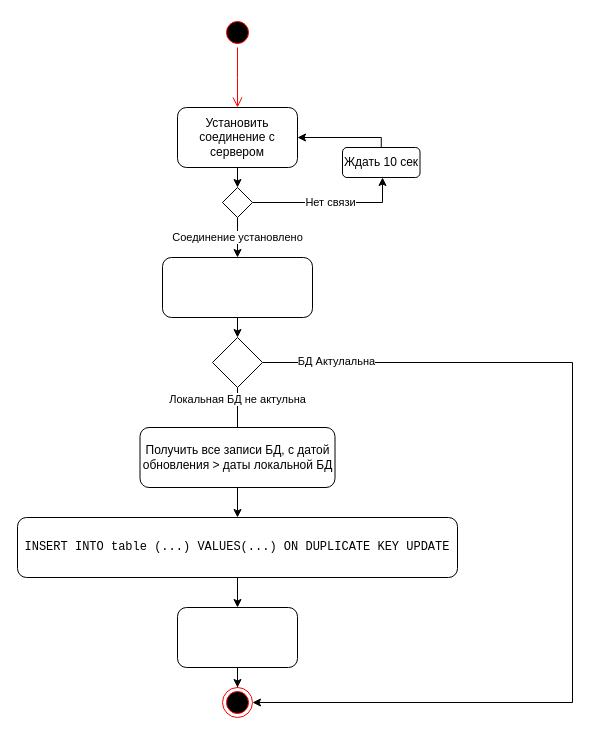
Image size: 598x735. Some labels were removed from this diagram. The shapes that lost their labels are listed below. From the top down, each one's centre as x and y in pixels, then its label:
point 237,287: Сравнить дату локальной БД с датой обновления БД на сервере
point 237,637: Обновить данные в репозиториях тем и фраз
